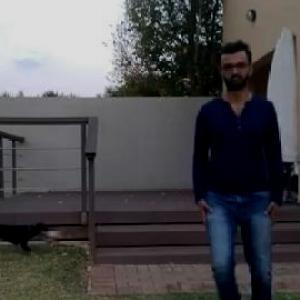follow: (177, 32, 286, 299)
